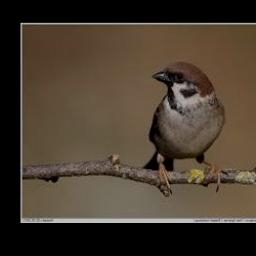Sparrow: (142, 61, 225, 193)
